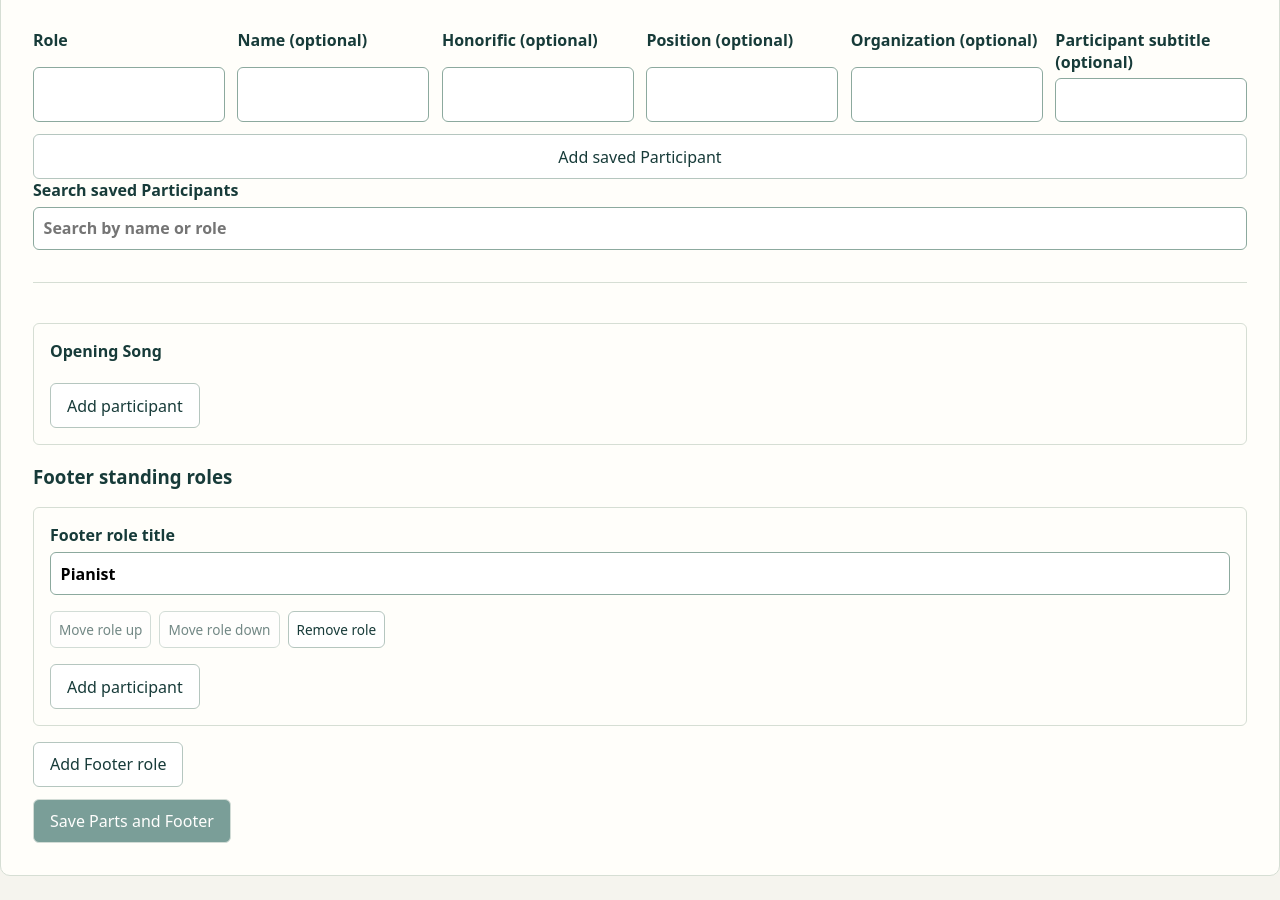
Test: locks every Footer control while a save is in flight
(page scrolled)
Replace the text in the field labelled "Footer role title" with "Organist" at point(640, 574), box [50, 552, 1230, 595]
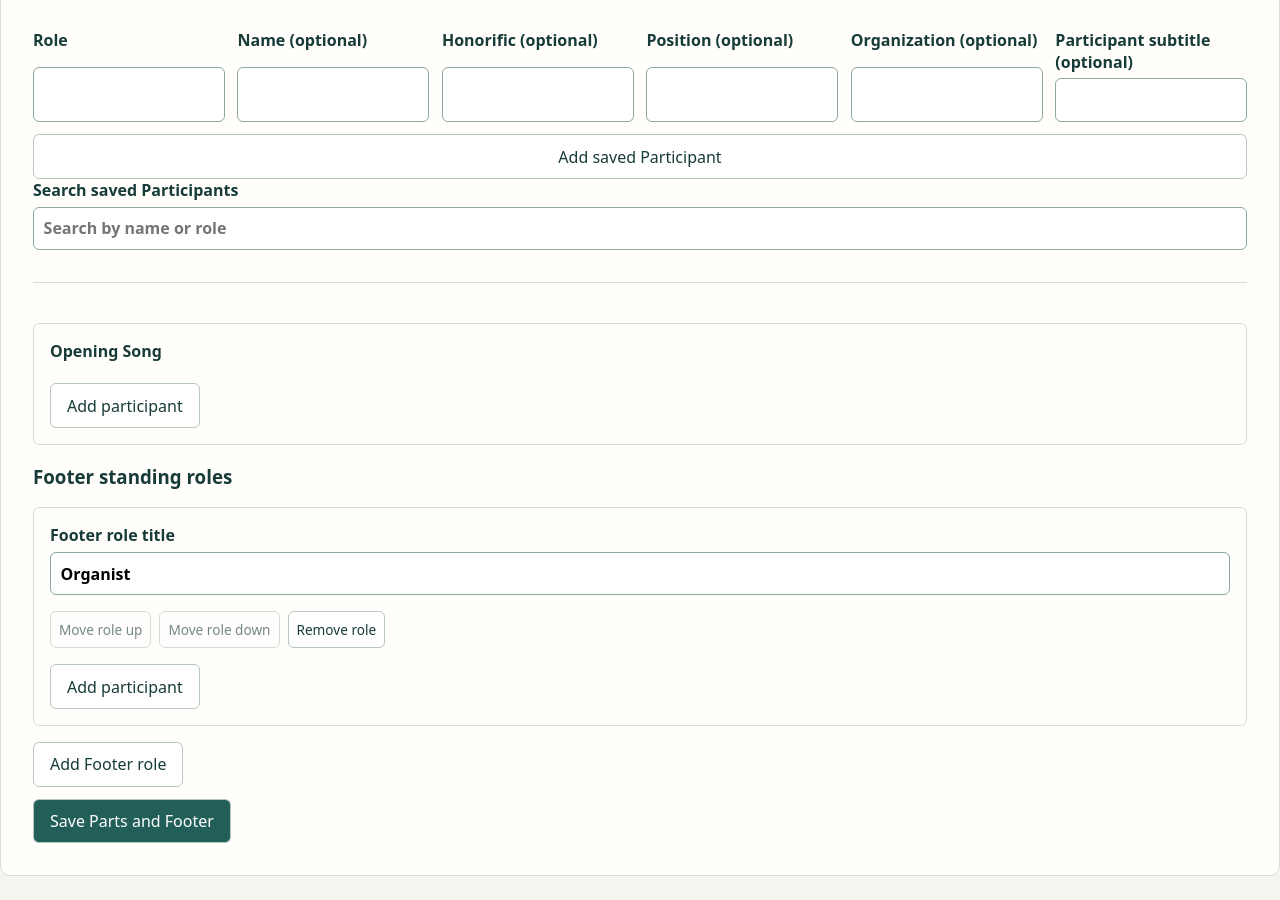
Click the button "Save Parts and Footer" at point(132, 821), box [33, 799, 231, 844]
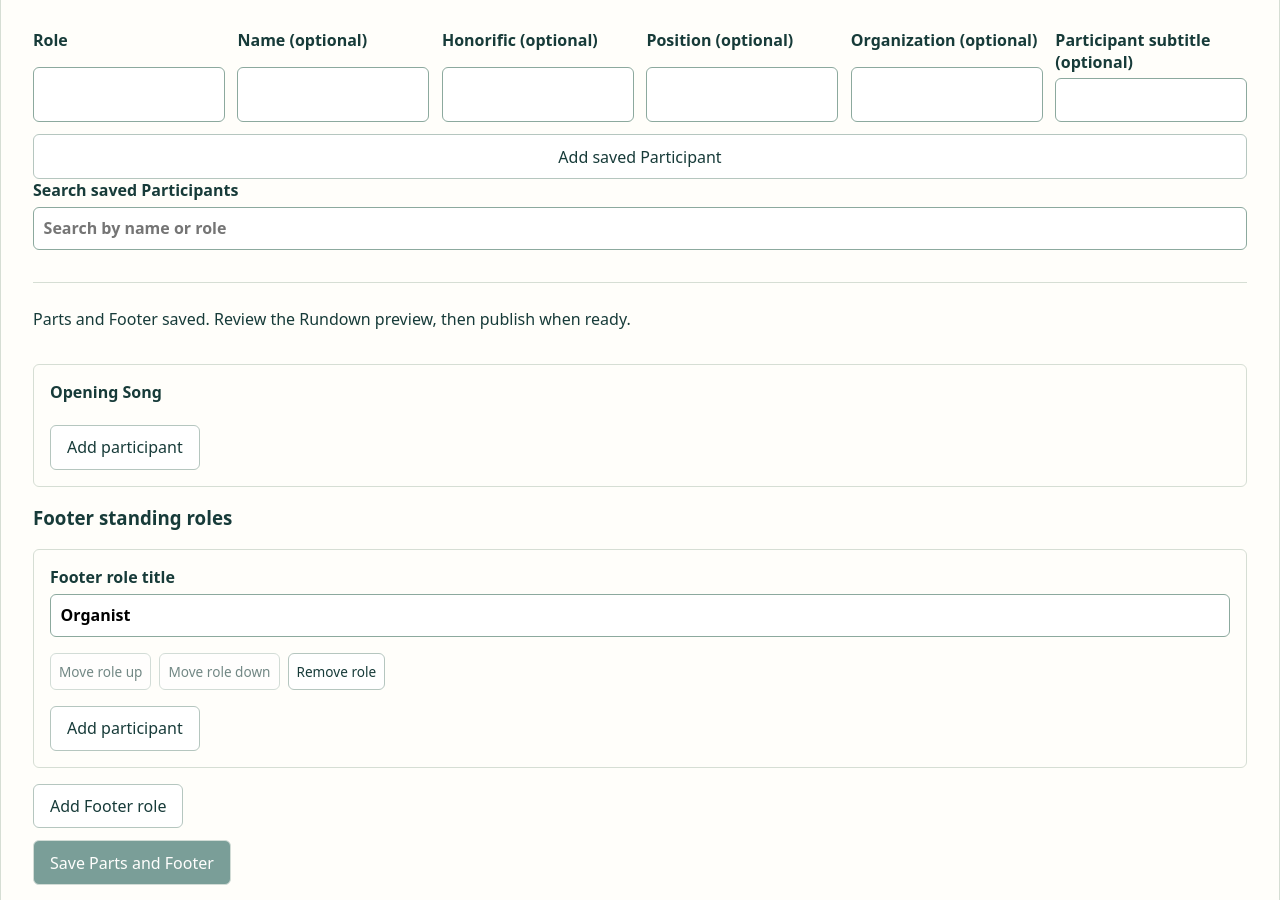
Check: the text "Parts and Footer saved. Review the Rundown preview, then publish when ready." is shown, box [33, 308, 631, 330]
